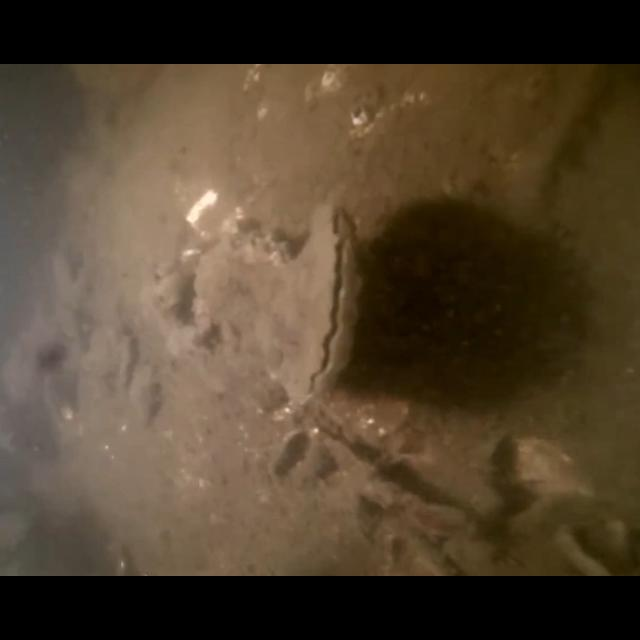Oyster-Open: (256, 204, 366, 408), (190, 228, 294, 372)
